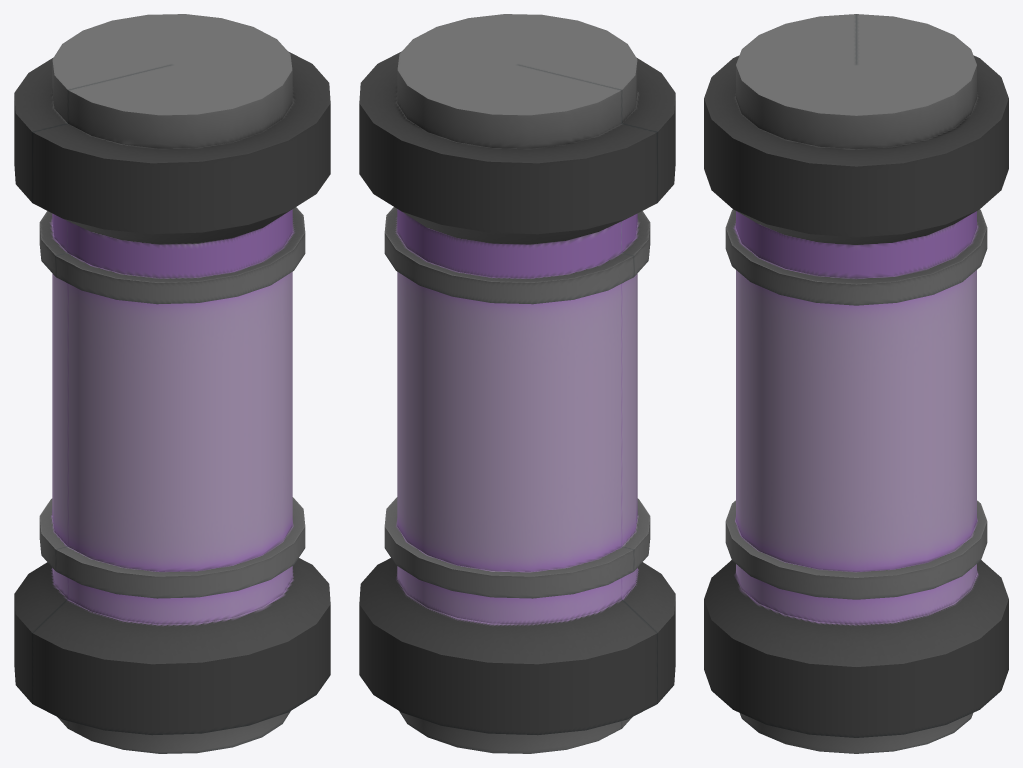
File: Vat 1.fbx
The picture shows the model from 3 angles, left to right: view 1: azimuth 30°, elevation 25°; view 2: azimuth 150°, elevation 25°; view 3: azimuth 270°, elevation 25°; orthographic projection.
Visible parts, largest first — view 1: pCylinder1; view 2: pCylinder1; view 3: pCylinder1.
Part boxes in pixels (box(x1,y1,x2,y2)): pCylinder1: box(14, 14, 330, 753); pCylinder1: box(359, 14, 675, 753); pCylinder1: box(704, 14, 1008, 753).
Size of the model in its own units: 95.36 by 208 by 89.94.
1 material, 1 textured.
